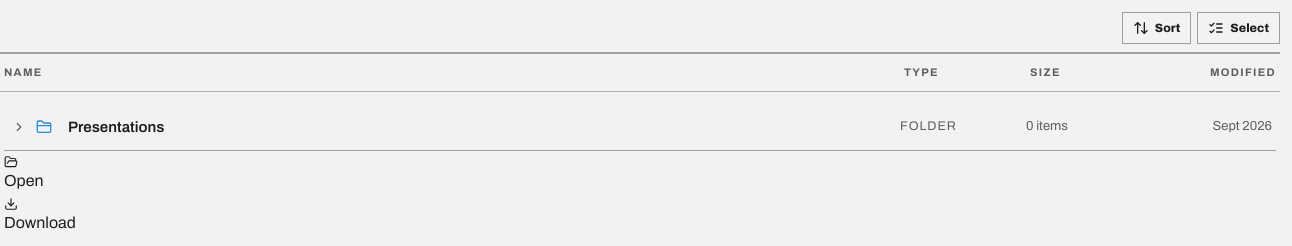
Test case: DriveBrowser › expands an empty folder like any other
The width and height of the screenshot is (1292, 246).
Click the button named "Expand Presentations".
click(19, 127)  # box [8,116,30,138]
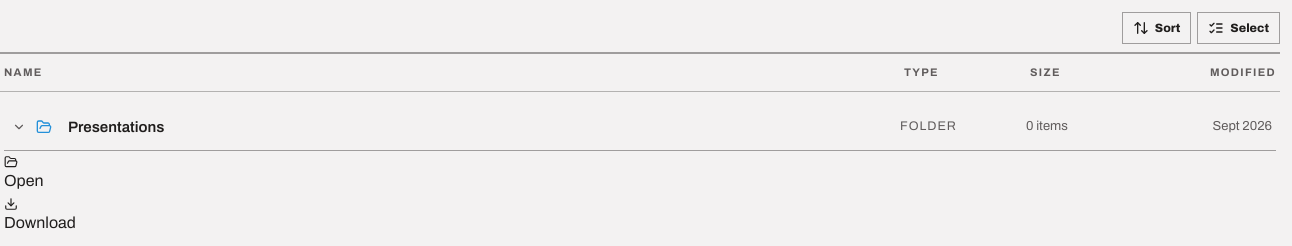
Expected: the button named "Collapse Presentations" is expanded, [8,116,30,138]
